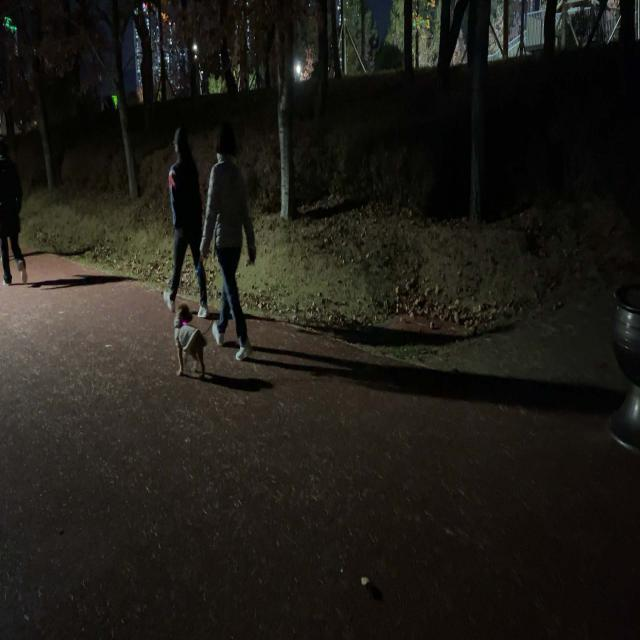Leashed_Dog: (174, 229, 238, 377)
